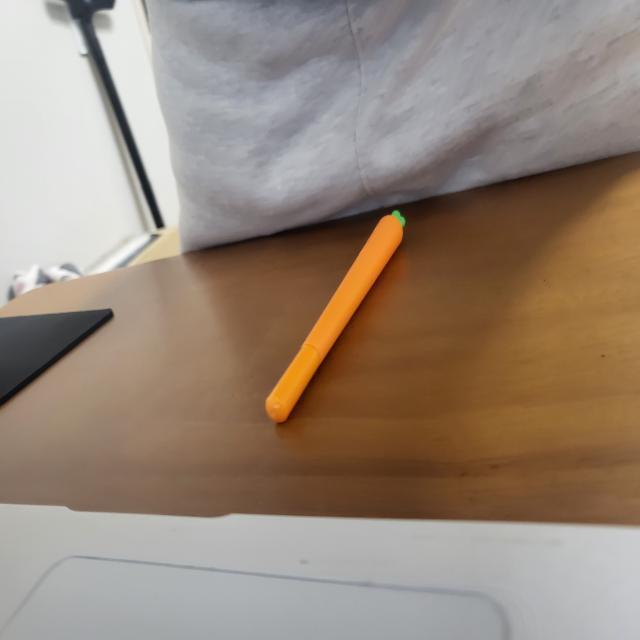carrot: (258, 208, 410, 430)
